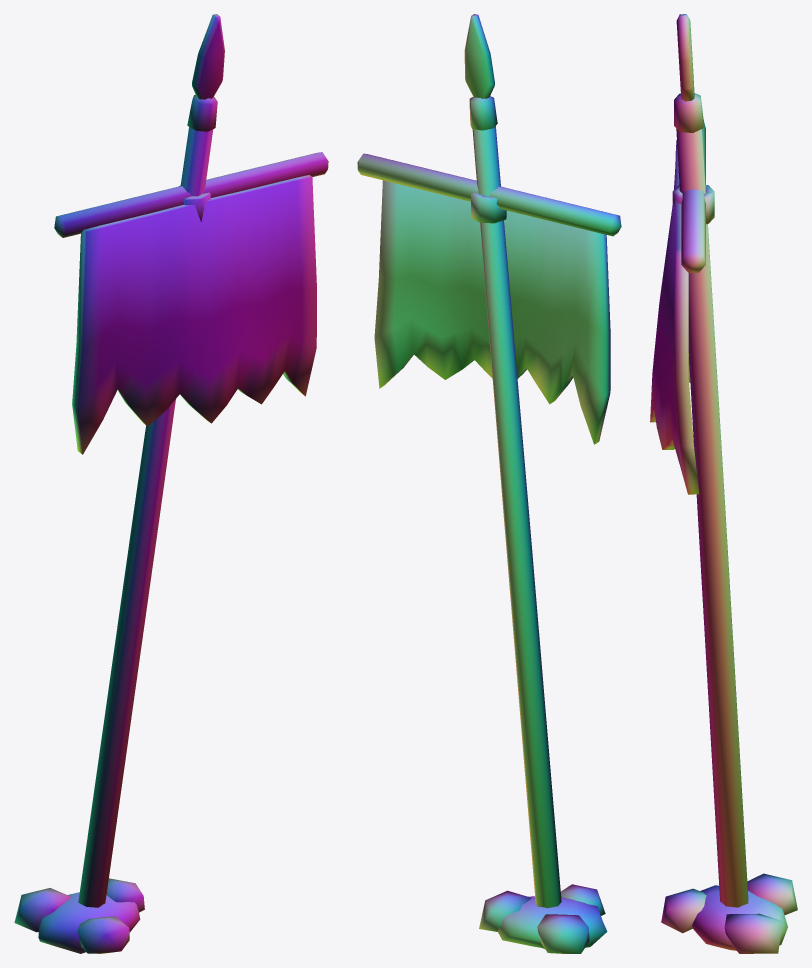
Rendered from SM_Prop_March_RingBanner_B.fbx.
3 views of the same model, side by side, from view 1: azimuth 30°, elevation 25°; view 2: azimuth 150°, elevation 25°; view 3: azimuth 270°, elevation 25° (orthographic). The views are drawn at different scales.
Visible parts, largest first — view 1: SM_Prop_March_RingBanner_B; view 2: SM_Prop_March_RingBanner_B; view 3: SM_Prop_March_RingBanner_B.
Part boxes in pixels (box(x1,y1,x2,y2)): SM_Prop_March_RingBanner_B: box(14, 14, 328, 953); SM_Prop_March_RingBanner_B: box(357, 14, 621, 953); SM_Prop_March_RingBanner_B: box(650, 14, 797, 953).
Bounding box in the file's own units: 0.8933 × 2.88 × 0.3901.
